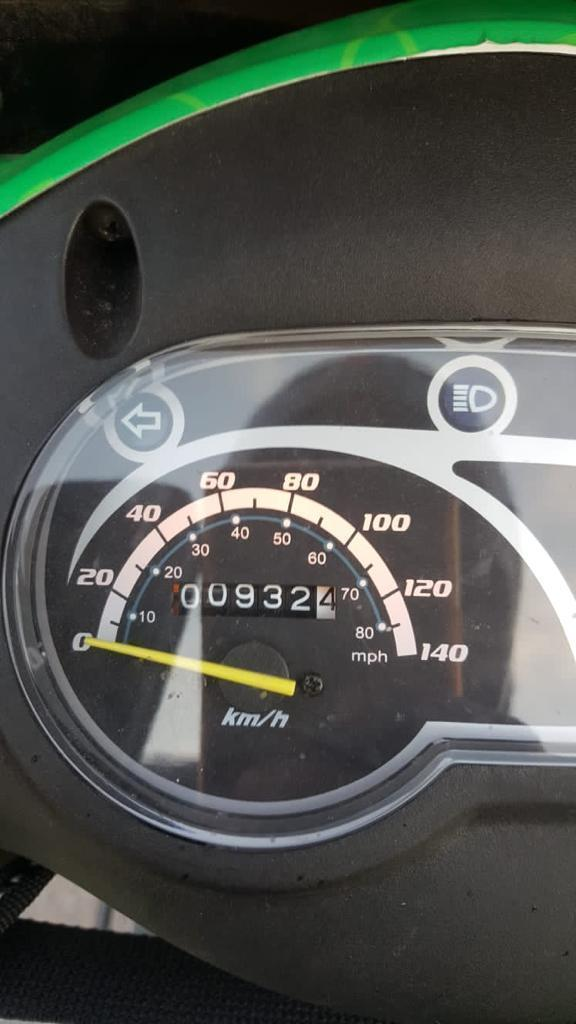0: (178, 581, 201, 610), (206, 581, 230, 608)
2: (288, 583, 312, 613)
3: (260, 582, 283, 610)
4: (318, 583, 338, 613)
9: (232, 581, 255, 610)
odometer: (167, 576, 341, 625)
